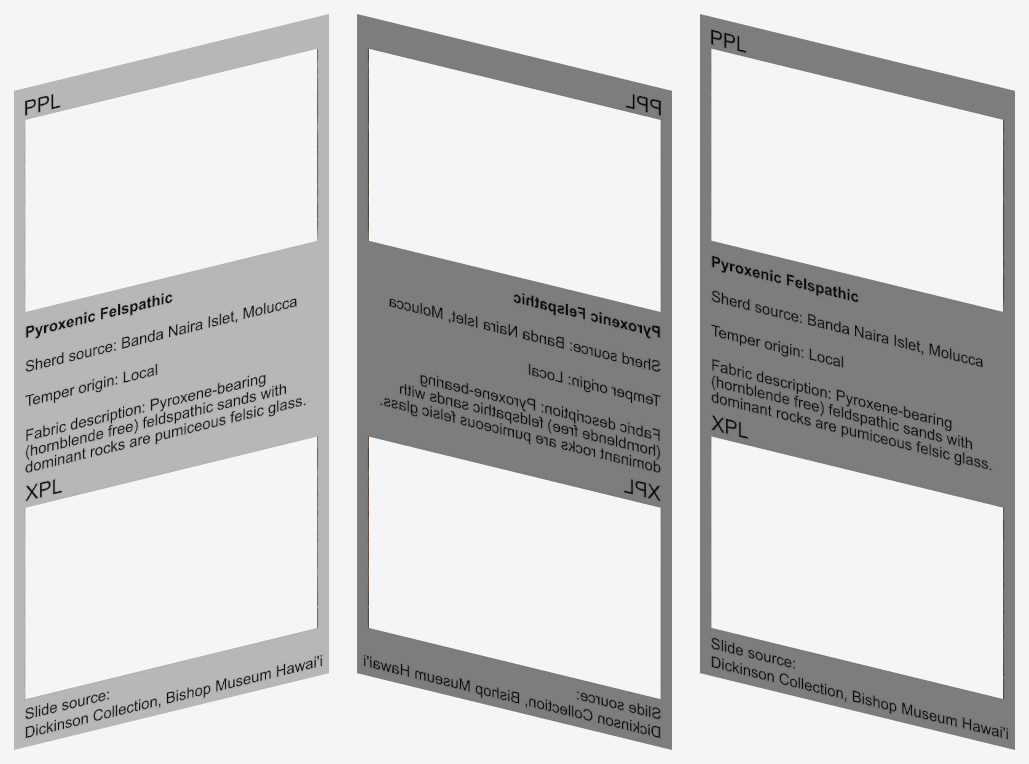
Rendered from wd_17_12_frame.glb.
3 views of the same model, side by side, from view 1: azimuth 30°, elevation 25°; view 2: azimuth 150°, elevation 25°; view 3: azimuth 330°, elevation 25° (orthographic).
Parts seen in each view (by area): view 1: WD_17_12; view 2: WD_17_12; view 3: WD_17_12.
Boxes of the visible parts, bbox=[...] form: WD_17_12: bbox=[14, 14, 328, 749]; WD_17_12: bbox=[357, 14, 671, 749]; WD_17_12: bbox=[700, 14, 1014, 749].
Size of the model in its own units: 0.5 by 1 by 4.37e-08.
1 material, 1 textured.
